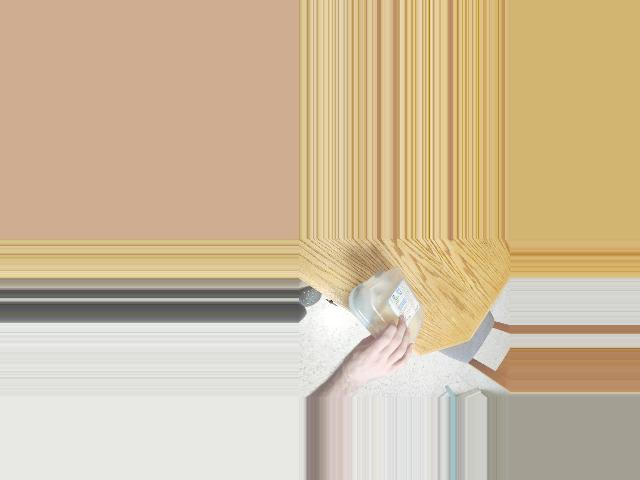cheese: (353, 267, 425, 362)
